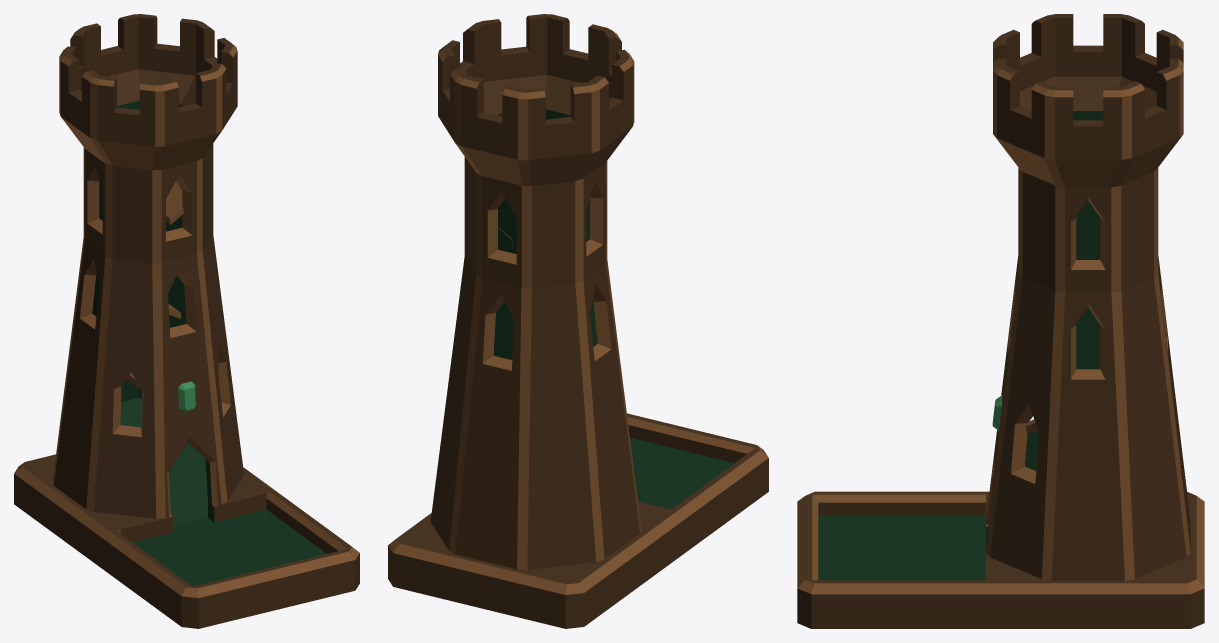
File: dice-tower-652cc1.glb
3 renders of one model, left to right at view 1: azimuth 30°, elevation 25°; view 2: azimuth 150°, elevation 25°; view 3: azimuth 270°, elevation 25°, orthographic. The views are drawn at different scales.
Visible parts, largest first — view 1: tower; view 2: tower; view 3: tower.
Boxes of the visible parts, left/top/right/bottom form: tower: left=14, top=14, right=359, bottom=628; tower: left=388, top=14, right=768, bottom=628; tower: left=797, top=14, right=1204, bottom=628.
Size of the model in its own units: 0.1 by 0.25 by 0.175.
